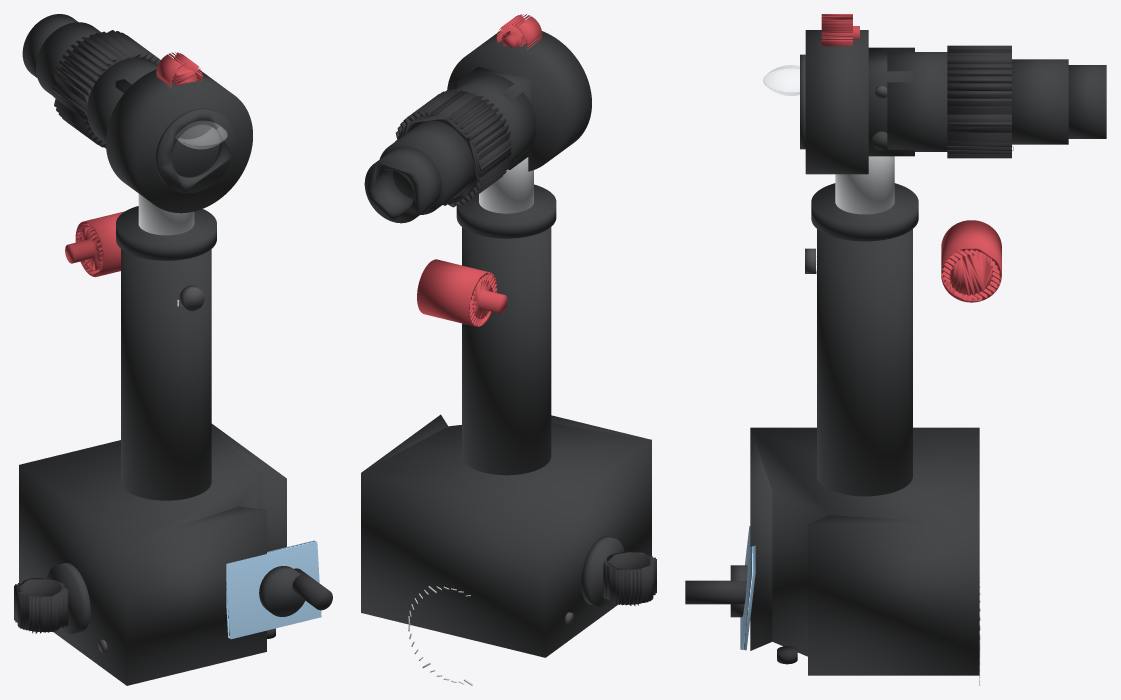
Rendered from eyepiece.glb.
The picture shows the model from 3 angles, left to right: view 1: azimuth 30°, elevation 25°; view 2: azimuth 150°, elevation 25°; view 3: azimuth 270°, elevation 25°; orthographic projection. The views are drawn at different scales.
Visible parts, largest first — view 1: Eyepiece_Base, Eyepiece_Post, FrontHousing, FrontBluePlate, FocusRing, FrontBezel, Eyepiece_TopCollar, SideAdjustmentKnob, PostRedLockKnob, RearSleeve1, RearSleeve2, FrontKnobBase (+7 smaller); view 2: Eyepiece_Base, Eyepiece_Post, FrontHousing, FocusRing, PostRedLockKnob, Eyecup, RearSleeve2, Eyepiece_TopCollar, RearSleeve1, SideAdjustmentKnob, Eyepiece_Rod, SideAdjustmentPlate (+2 smaller); view 3: Eyepiece_Base, Eyepiece_Post, FrontHousing, FocusRing, RearSleeve1, RearSleeve2, PostRedLockKnob, Eyepiece_TopCollar, Eyecup, Eyepiece_Rod, BridgeBlock, FrontHandle (+3 smaller).
Part boxes in pixels (x1,y1,x2,y2): Eyepiece_Base: (19, 424, 286, 685); Eyepiece_Post: (121, 249, 211, 500); FrontHousing: (106, 69, 252, 213); FrontBluePlate: (226, 540, 321, 639); FocusRing: (53, 30, 160, 148); FrontBezel: (155, 108, 235, 193); Eyepiece_TopCollar: (116, 206, 216, 260); SideAdjustmentKnob: (14, 577, 68, 633); PostRedLockKnob: (65, 211, 124, 277); RearSleeve1: (87, 57, 157, 143); RearSleeve2: (36, 22, 101, 96); FrontKnobBase: (259, 566, 305, 616); Eyepiece_Base: (361, 414, 651, 657); Eyepiece_Post: (462, 227, 551, 475); FrontHousing: (447, 31, 591, 171); FocusRing: (395, 89, 511, 207); PostRedLockKnob: (417, 259, 507, 326); Eyecup: (364, 146, 441, 223); RearSleeve2: (380, 121, 473, 214); Eyepiece_TopCollar: (456, 184, 556, 238); RearSleeve1: (455, 73, 536, 162); SideAdjustmentKnob: (603, 550, 656, 605); Eyepiece_Rod: (479, 157, 533, 213); SideAdjustmentPlate: (581, 536, 624, 606); Eyepiece_Base: (750, 427, 979, 675); Eyepiece_Post: (817, 229, 912, 496); FrontHousing: (805, 30, 868, 174); FocusRing: (947, 45, 1011, 158); RearSleeve1: (887, 52, 947, 151); RearSleeve2: (1012, 59, 1068, 144); PostRedLockKnob: (941, 220, 1001, 302); Eyepiece_TopCollar: (811, 183, 918, 241); Eyecup: (1068, 65, 1106, 138); Eyepiece_Rod: (835, 156, 894, 214); BridgeBlock: (868, 47, 914, 156); FrontHandle: (685, 580, 746, 604).
Size of the model in its own units: 0.0807 by 0.1972 by 0.1138.
